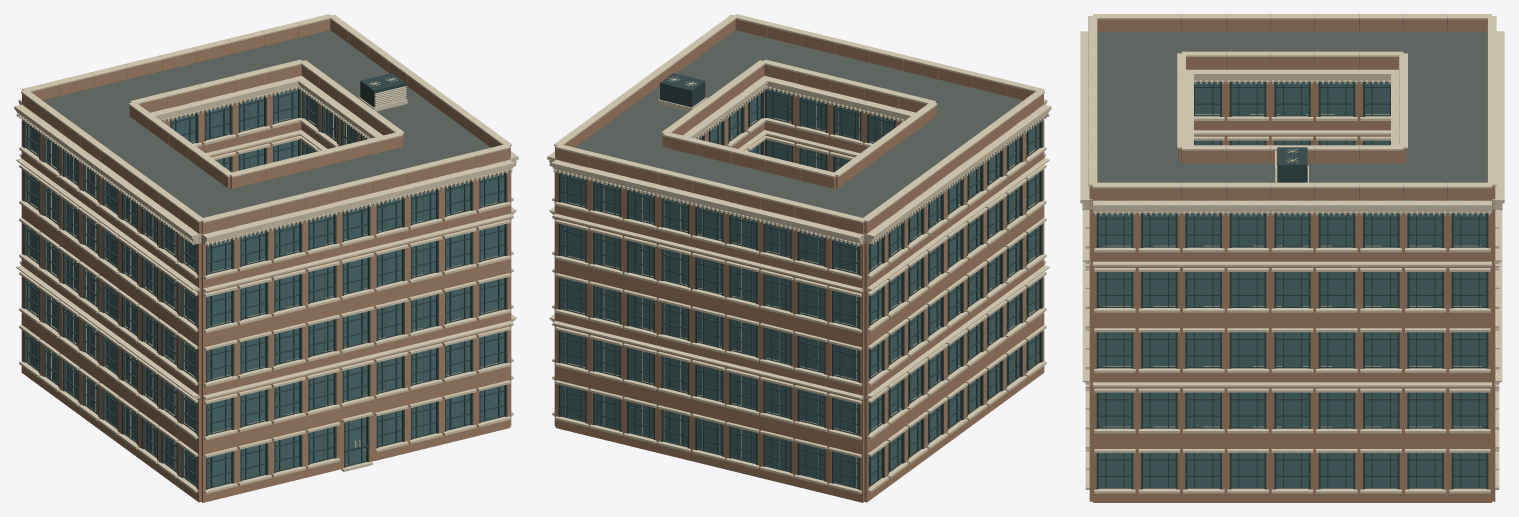
The model's file is court-apartments.glb.
3 renders of one model, left to right at view 1: azimuth 30°, elevation 25°; view 2: azimuth 150°, elevation 25°; view 3: azimuth 270°, elevation 25°, orthographic. The views are drawn at different scales.
Visible parts, largest first — view 1: Roof main.017, Foundation.035, collection/roof/frame.007, main/north/0/556/wall, main/north/2/556/wall, main/north/0/5000/glass.008, main/north/0/9444/wall, main/north/0/6111/wall.001, main/north/2/9444/wall, main/north/2/1667/wall.005, main/north/0/1667/wall.006, main/north/0/2778/wall (+88 smaller); view 2: Roof main.017, Foundation.035, collection/roof/frame.007, main/south/0/556/wall.001, main/south/2/556/wall.001, main/south/0/9444/wall.001, main/south/2/9444/wall.001, main/south/2/1667/wall.006, main/south/0/1667/wall.007, main/south/0/2778/wall.001, main/south/2/2778/wall.001, main/south/2/3889/wall.001 (+86 smaller); view 3: Roof main.017, main/east/0/5000/wall.007, main/east/2/5000/wall.005, main/east/0/556/wall, main/east/0/9444/wall, main/east/2/556/wall, main/east/2/9444/wall, main/east/0/1667/wall.002, main/east/0/8333/wall.002, main/east/2/1667/wall.001, main/east/2/8333/wall.001, main/east/0/2778/wall (+168 smaller).
Part boxes in pixels (x1=…): Roof main.017: x1=42, y1=30, x2=490, y2=233; Foundation.035: x1=28, y1=102, x2=500, y2=487; collection/roof/frame.007: x1=360, y1=73, x2=405, y2=107; main/north/0/556/wall: x1=201, y1=441, x2=237, y2=502; main/north/2/556/wall: x1=201, y1=334, x2=237, y2=395; main/north/0/5000/glass.008: x1=345, y1=417, x2=366, y2=465; main/north/0/9444/wall: x1=476, y1=374, x2=510, y2=436; main/north/0/6111/wall.001: x1=373, y1=399, x2=407, y2=460; main/north/2/9444/wall: x1=476, y1=267, x2=510, y2=328; main/north/2/1667/wall.005: x1=237, y1=325, x2=271, y2=387; main/north/0/1667/wall.006: x1=237, y1=433, x2=271, y2=494; main/north/0/2778/wall: x1=271, y1=424, x2=305, y2=486; Roof main.017: x1=575, y1=30, x2=1023, y2=233; Foundation.035: x1=565, y1=102, x2=1037, y2=487; collection/roof/frame.007: x1=660, y1=73, x2=705, y2=107; main/south/0/556/wall.001: x1=828, y1=441, x2=864, y2=502; main/south/2/556/wall.001: x1=828, y1=334, x2=864, y2=395; main/south/0/9444/wall.001: x1=555, y1=374, x2=589, y2=436; main/south/2/9444/wall.001: x1=555, y1=267, x2=589, y2=328; main/south/2/1667/wall.006: x1=794, y1=325, x2=828, y2=387; main/south/0/1667/wall.007: x1=794, y1=433, x2=828, y2=494; main/south/0/2778/wall.001: x1=760, y1=424, x2=794, y2=486; main/south/2/2778/wall.001: x1=760, y1=317, x2=794, y2=378; main/south/2/3889/wall.001: x1=726, y1=309, x2=760, y2=370; Roof main.017: x1=1097, y1=32, x2=1487, y2=182; main/east/0/5000/wall.007: x1=1270, y1=442, x2=1314, y2=502; main/east/2/5000/wall.005: x1=1270, y1=322, x2=1314, y2=382; main/east/0/556/wall: x1=1447, y1=442, x2=1491, y2=502; main/east/0/9444/wall: x1=1093, y1=442, x2=1137, y2=502; main/east/2/556/wall: x1=1447, y1=322, x2=1491, y2=382; main/east/2/9444/wall: x1=1093, y1=322, x2=1137, y2=382; main/east/0/1667/wall.002: x1=1403, y1=442, x2=1447, y2=502; main/east/0/8333/wall.002: x1=1137, y1=442, x2=1181, y2=502; main/east/2/1667/wall.001: x1=1403, y1=322, x2=1447, y2=382; main/east/2/8333/wall.001: x1=1137, y1=322, x2=1181, y2=382; main/east/0/2778/wall: x1=1359, y1=442, x2=1403, y2=502.
Size of the model in its own units: 19.13 by 16.3 by 19.13.
